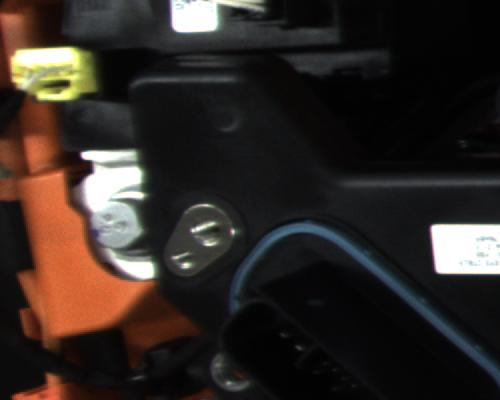nut_b: (83, 184, 146, 267)
